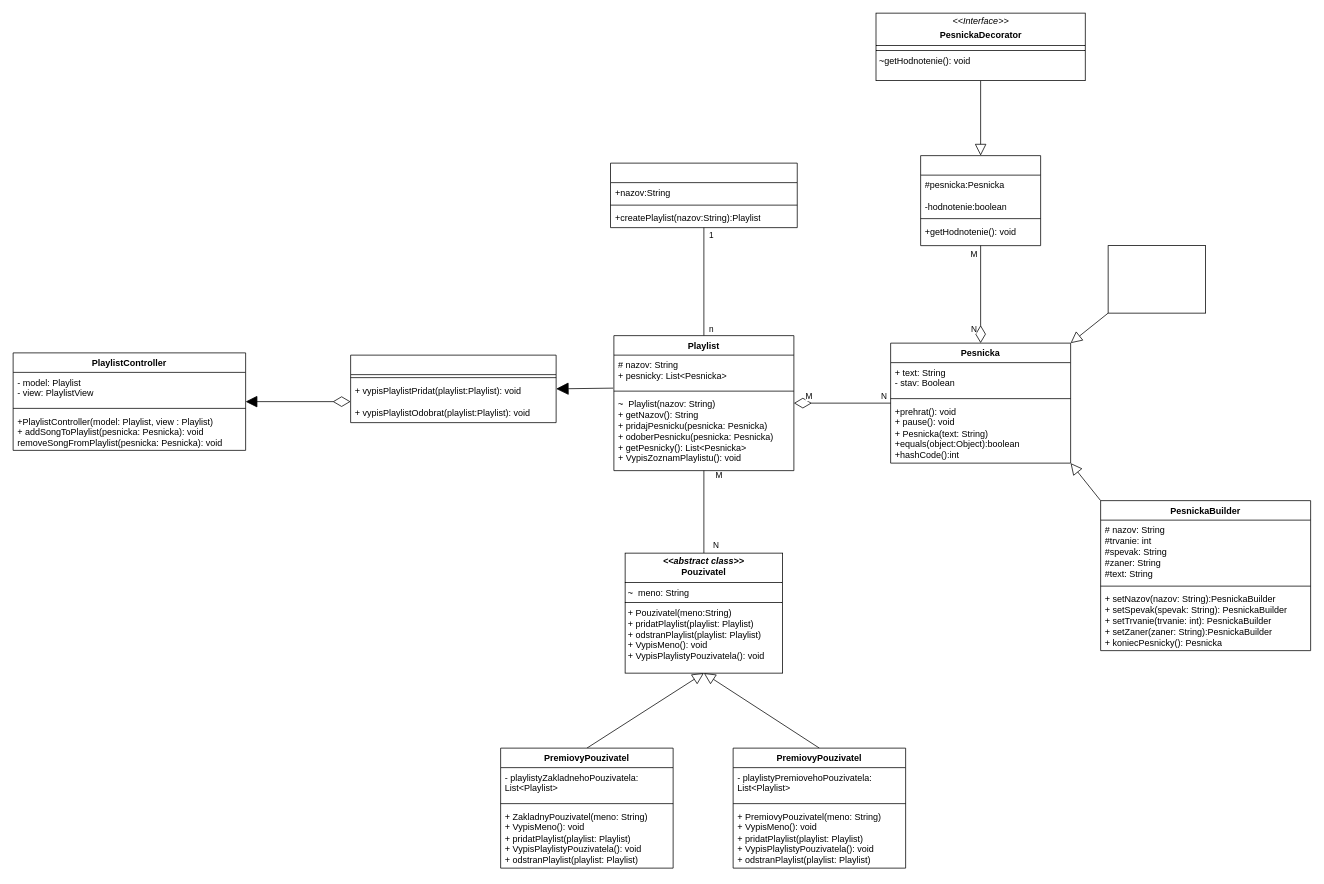
Some shapes in this 1324 by 884 pixel diagram are drawn without their labels. Here are the shapes that lost their labels. From the top down, the box of each, then its label:
(610, 162, 797, 228): PlaylistFactory
(920, 155, 1041, 246): HodnotenieDecorator
(1107, 245, 1206, 313): <<Interface>> PesnickaRozhranie ~ prehrat(): void ~ pause(): void
(350, 354, 556, 423): PlaylistView
